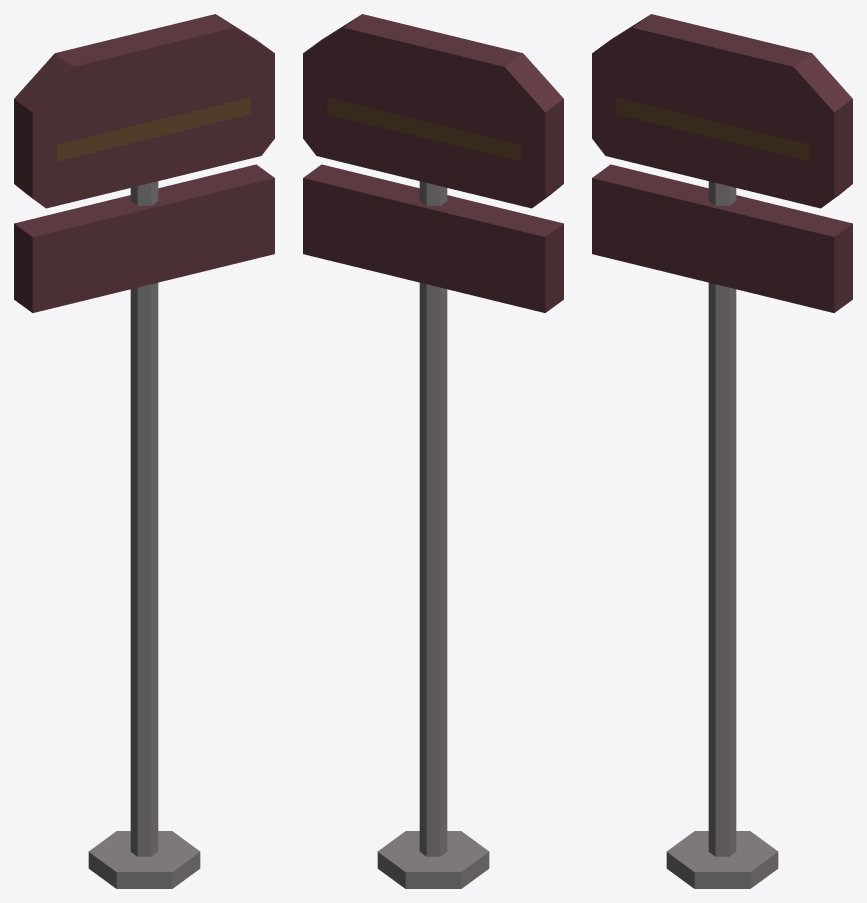
Rendered from burger-joint-sign.fbx.
3 renders of one model, left to right at view 1: azimuth 30°, elevation 25°; view 2: azimuth 150°, elevation 25°; view 3: azimuth 330°, elevation 25°, orthographic.
Visible parts, largest first — view 1: burger-joint-sign; view 2: burger-joint-sign; view 3: burger-joint-sign.
Boxes of the visible parts, box(x1,y1,x2,y2) form: burger-joint-sign: box(14, 14, 274, 888); burger-joint-sign: box(303, 14, 563, 888); burger-joint-sign: box(592, 14, 852, 888).
Size of the model in its own units: 3 by 9.8 by 1.2.
